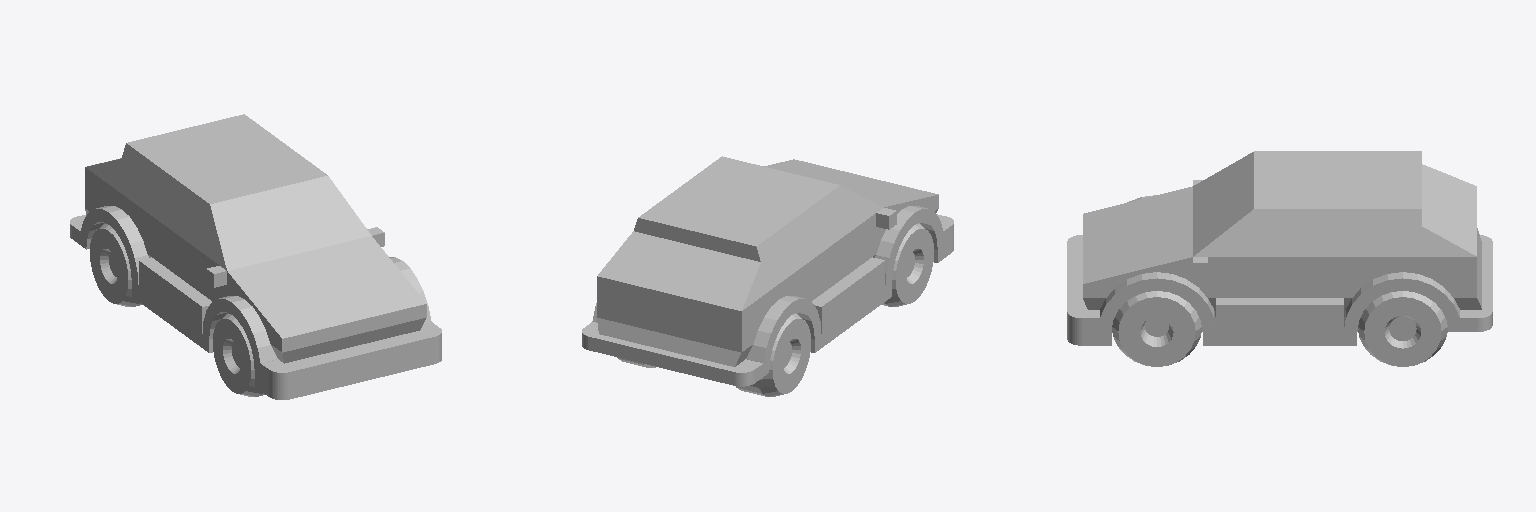
Rendered from hatchbackSports.obj.
3 views of the same model, side by side, from view 1: azimuth 30°, elevation 25°; view 2: azimuth 150°, elevation 25°; view 3: azimuth 270°, elevation 25° (orthographic).
Visible parts, largest first — view 1: body, wheel_backRight, wheel_frontRight; view 2: body, wheel_backRight, wheel_frontRight; view 3: body, wheel_backLeft, wheel_frontLeft.
Boxes of the visible parts, x1,y1,x2,y2 form: body: [70, 114, 441, 399]; wheel_backRight: [90, 223, 142, 306]; wheel_frontRight: [213, 313, 264, 396]; body: [582, 156, 953, 386]; wheel_backRight: [736, 313, 810, 396]; wheel_frontRight: [881, 223, 933, 306]; body: [1067, 151, 1492, 345]; wheel_backLeft: [1358, 291, 1447, 366]; wheel_frontLeft: [1112, 291, 1201, 366].
Size of the model in its own units: 0.975 by 0.825 by 2.1.